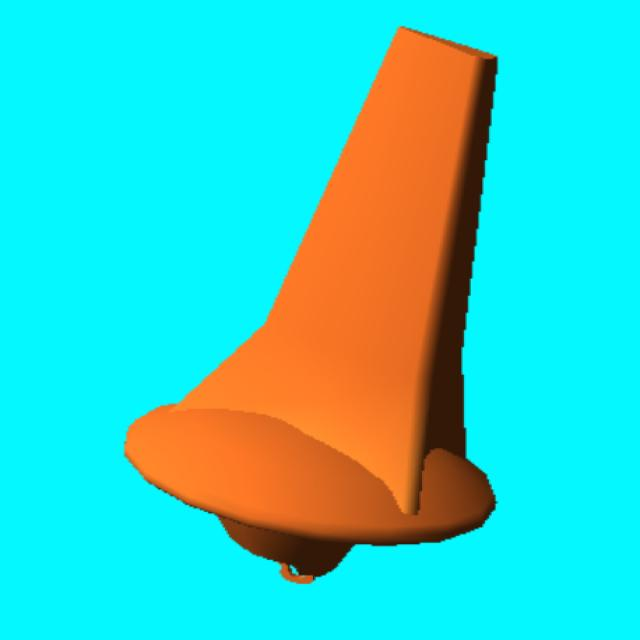OrangeBuoy: (125, 28, 495, 579)
